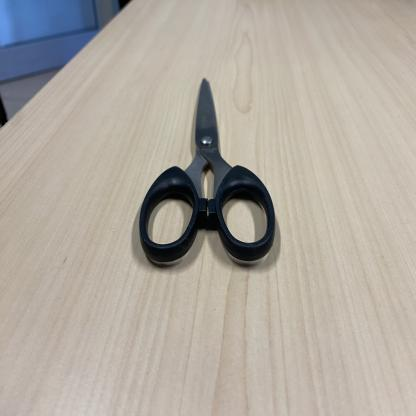scissors: (138, 76, 278, 267)
